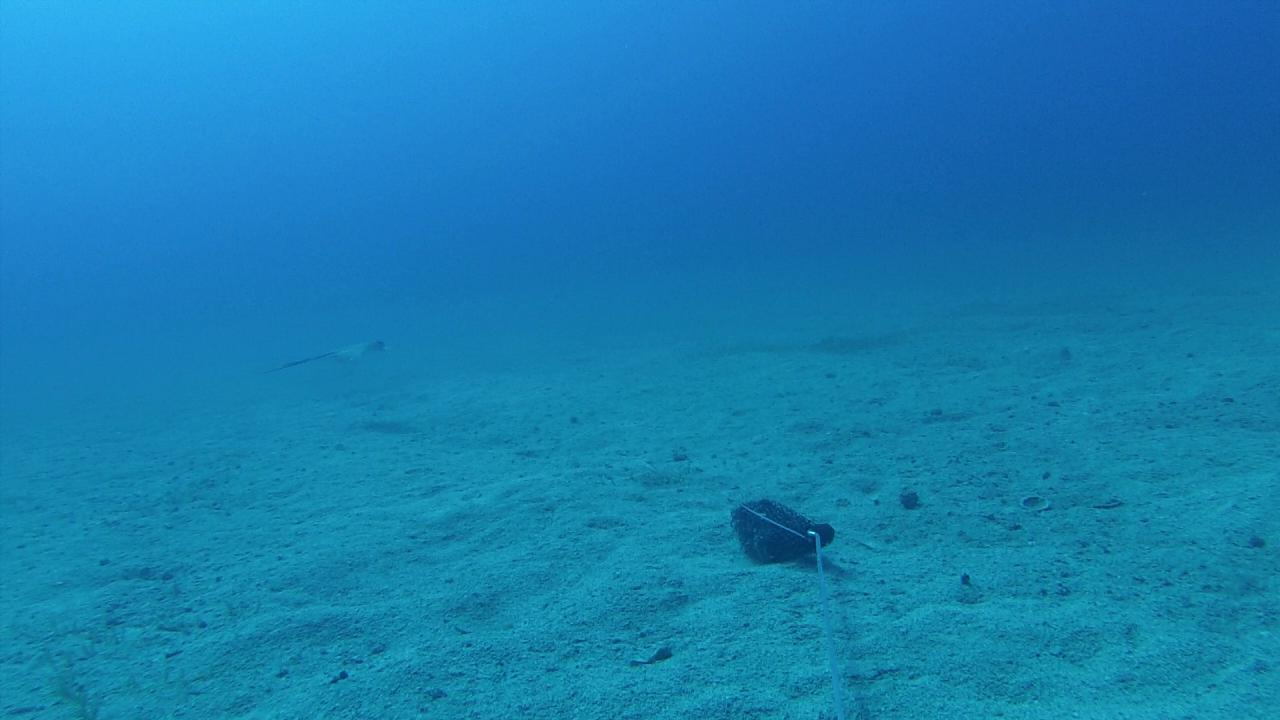dasyatis: (258, 334, 392, 374)
